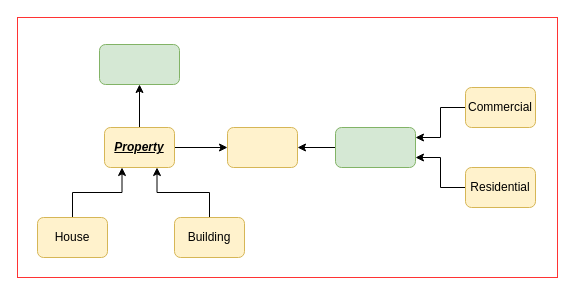
Some shapes in this 575 by 295 pixel diagram are drawn without their labels. The shapes that lost their labels are listed below. From the top down, each one's centre as x and y in pixels, then its label:
[139,64]: Property Interface
[262,147]: Tax
[375,147]: PropertyType Interface
